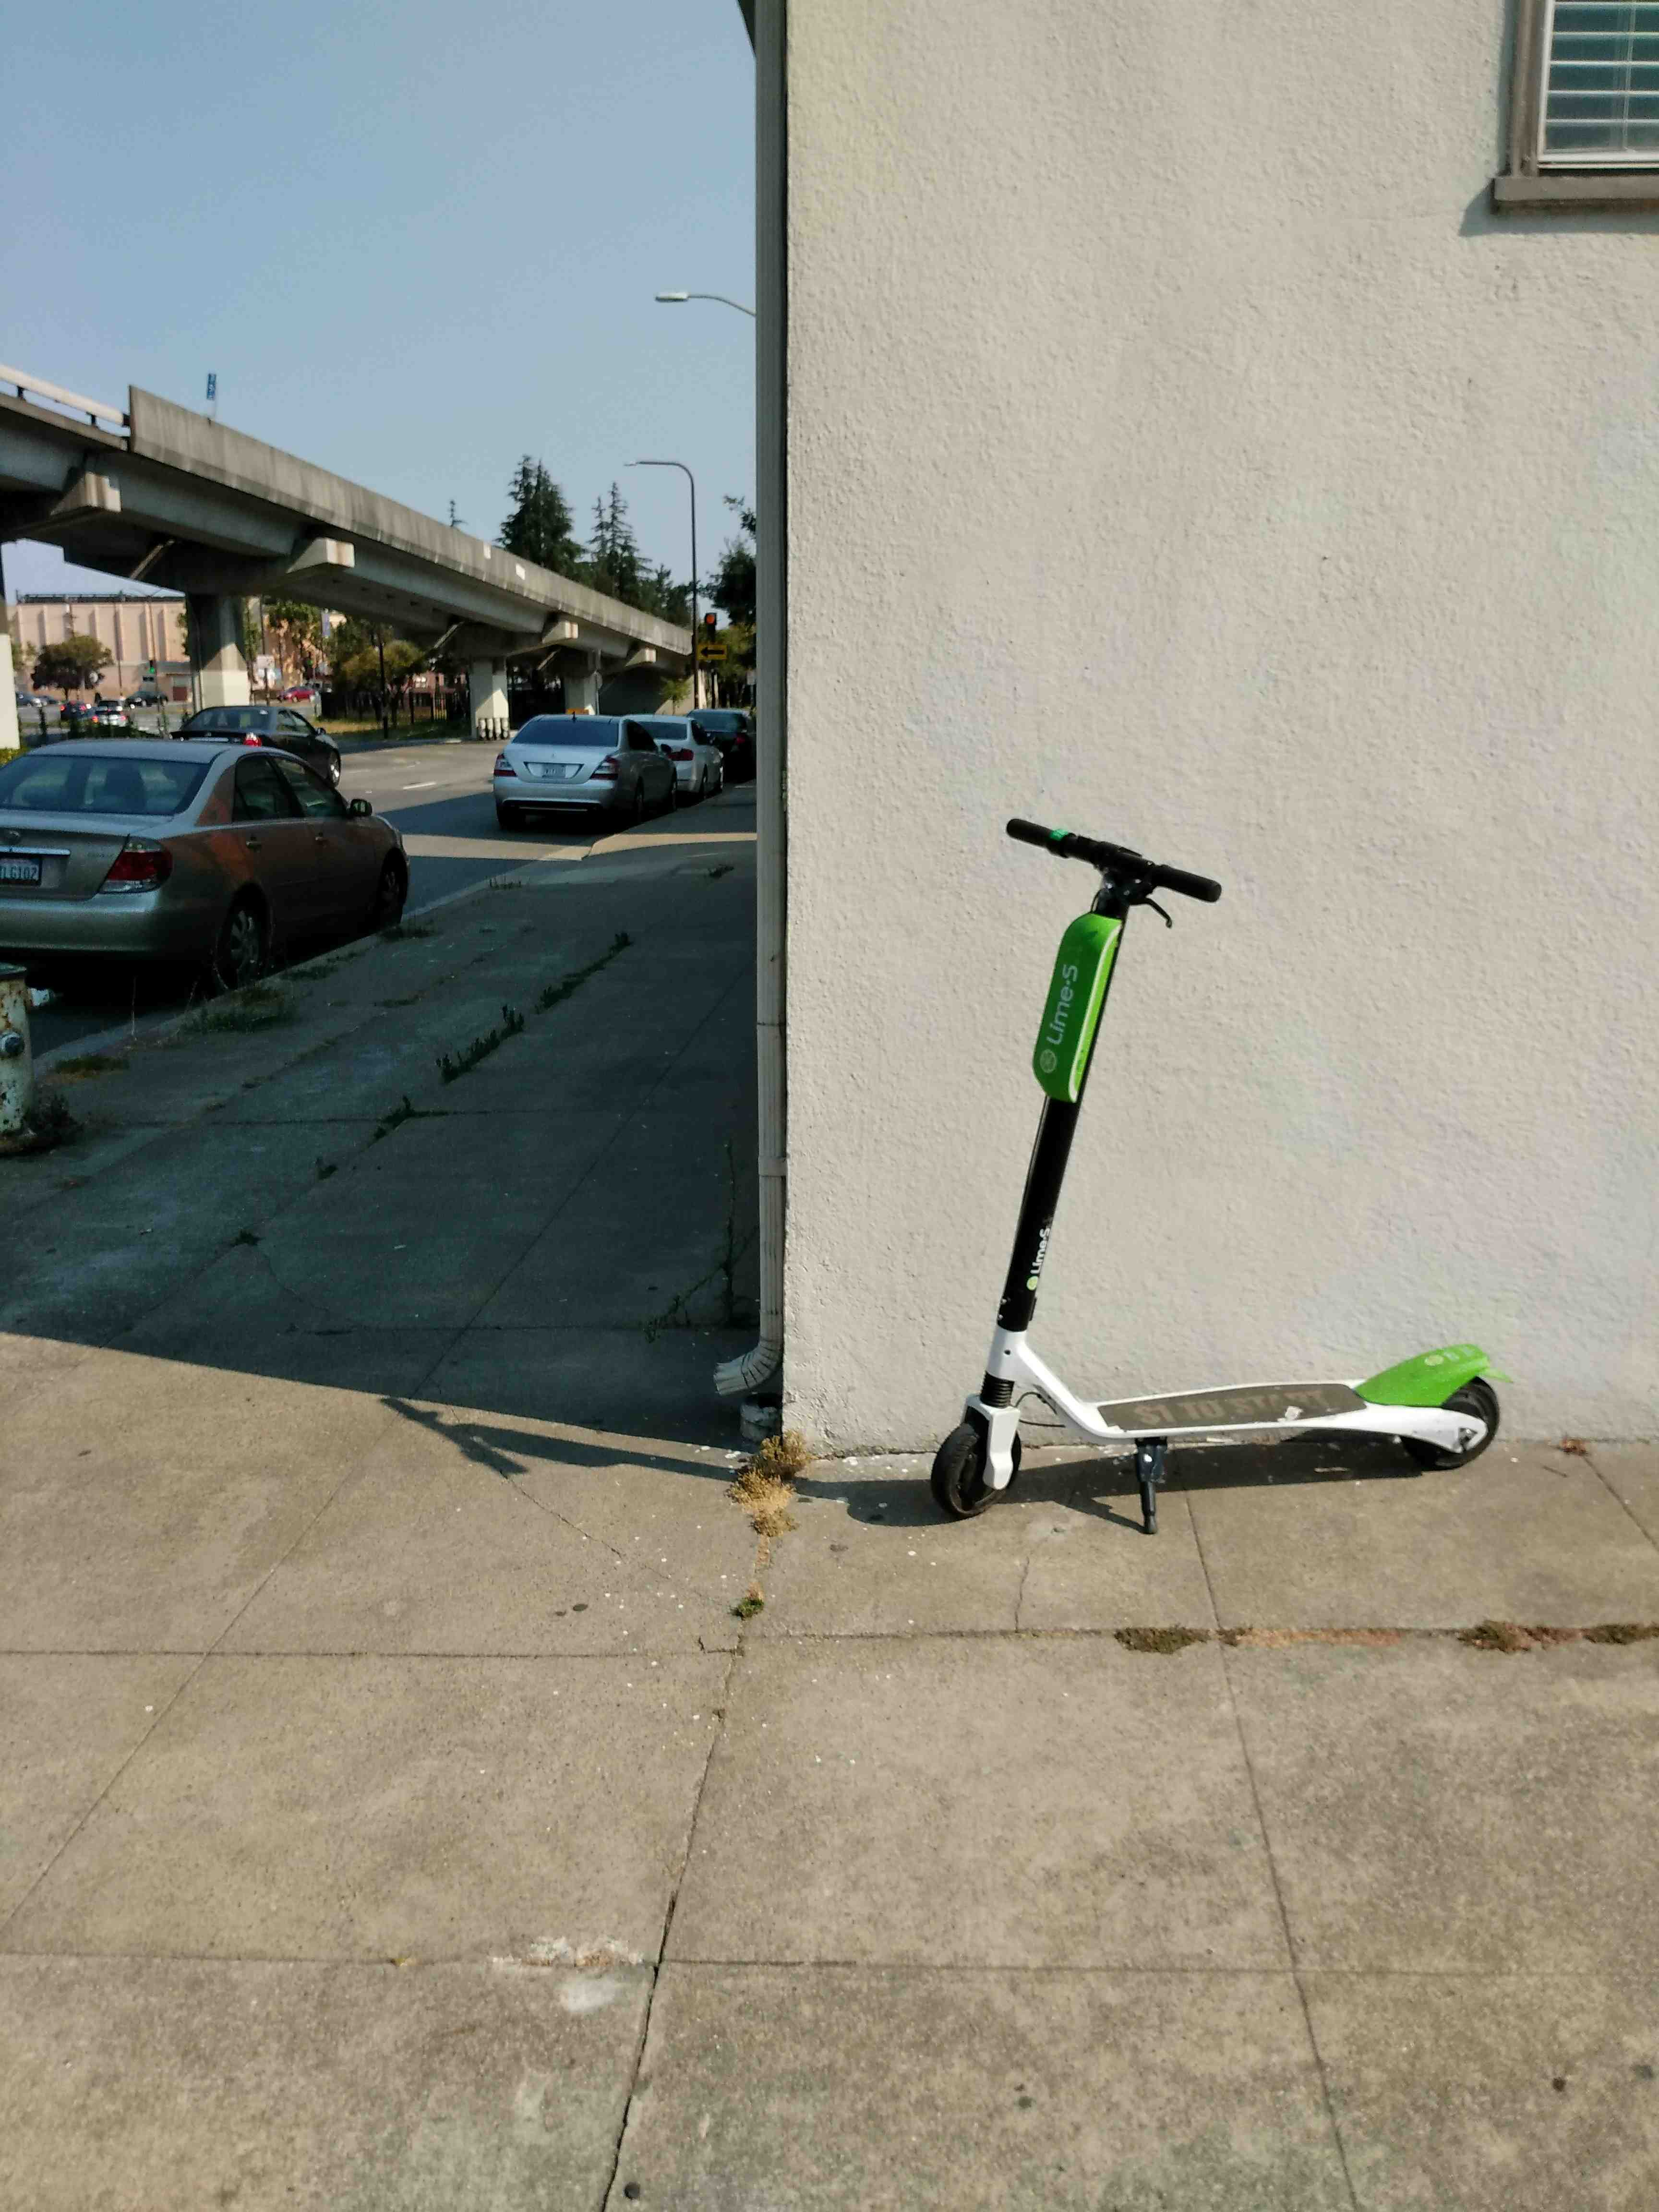scooter: (910, 794, 1539, 1531)
